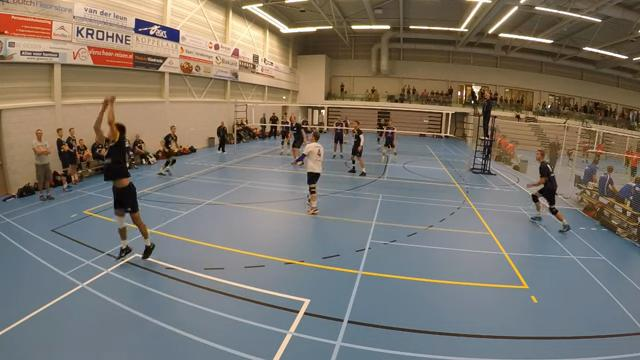Dig: (78, 90, 165, 264)
Player: (527, 150, 570, 232), (296, 131, 323, 214), (158, 125, 178, 175), (349, 121, 365, 175), (291, 117, 305, 164), (382, 119, 396, 161), (333, 116, 343, 158), (280, 116, 289, 154), (377, 119, 384, 149), (343, 116, 349, 143), (301, 118, 310, 133)
